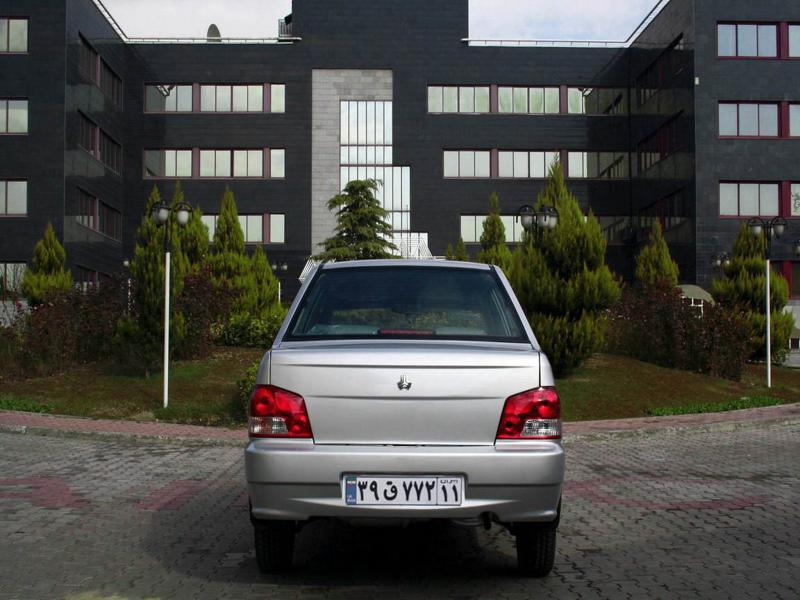Plate: (341, 471, 471, 508)
